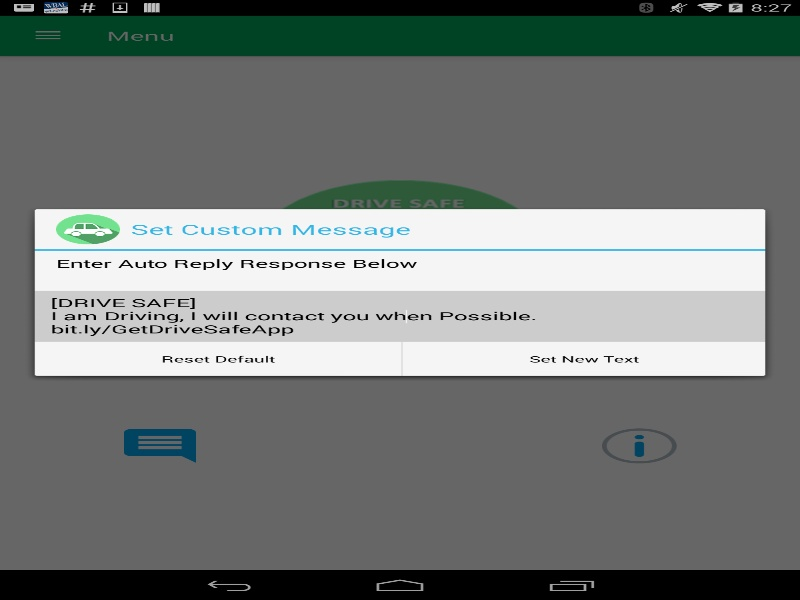Button: (34, 342, 401, 375), (402, 342, 765, 375)
Input: (34, 290, 765, 341)
